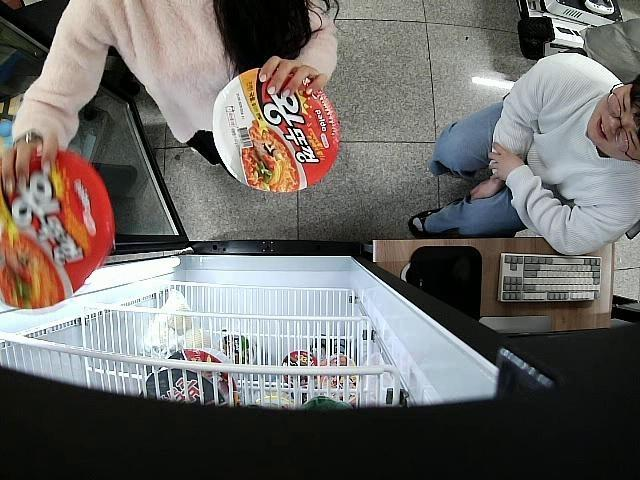10_wangTtukkeong: (0, 151, 115, 310), (212, 68, 340, 193)
